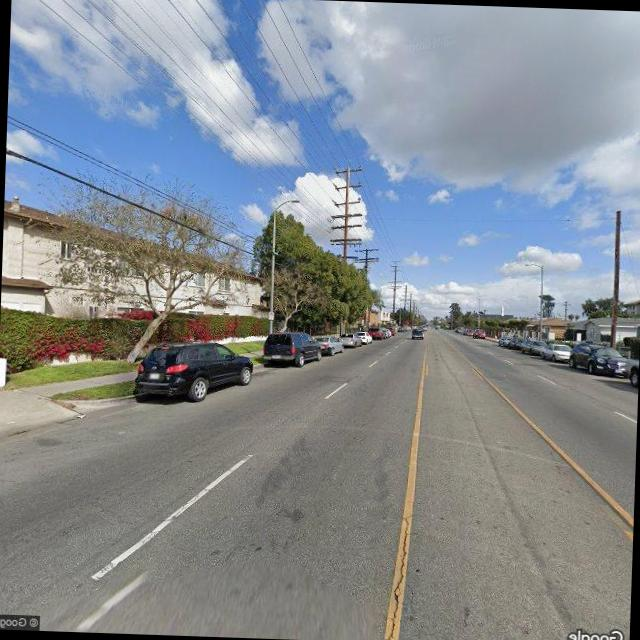pothole: (379, 502, 419, 640)
